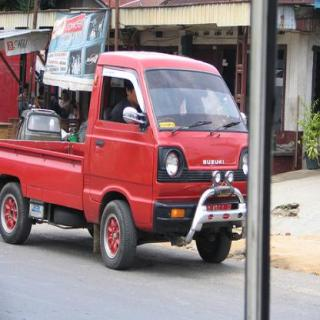Normal_vehicle: (2, 46, 251, 272)
